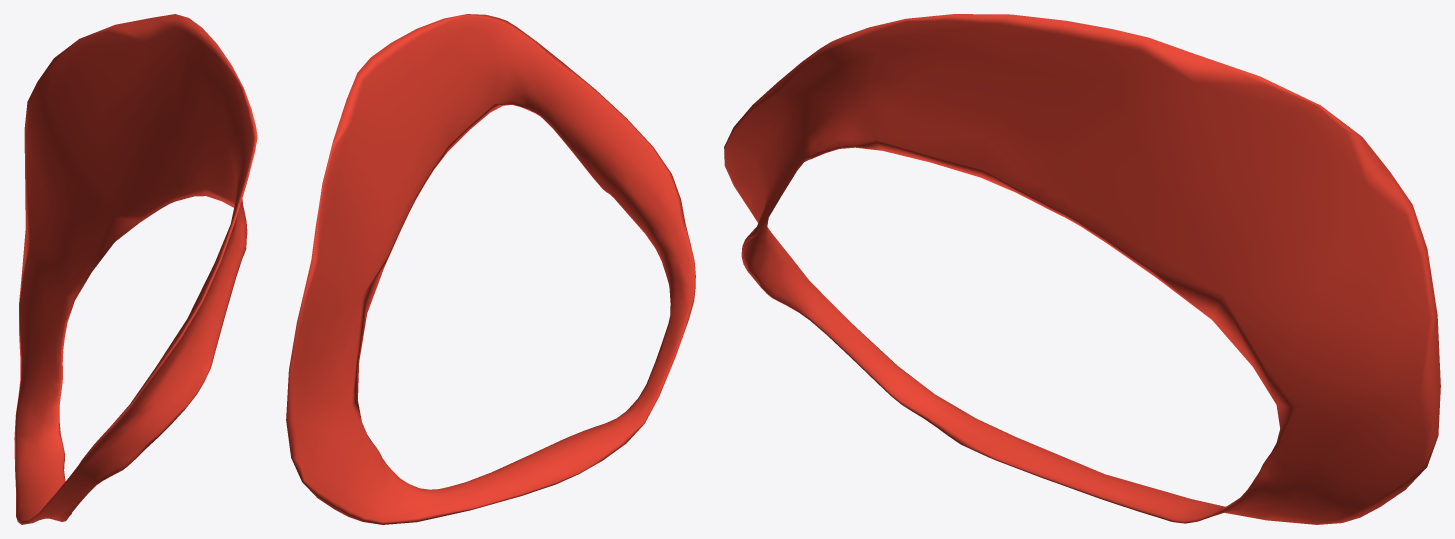
File: Obturator_internus-Pelvic_insertion.l_Generated_Mesh_From_X3D.8.glb
The picture shows the model from 3 angles, left to right: view 1: azimuth 30°, elevation 25°; view 2: azimuth 150°, elevation 25°; view 3: azimuth 270°, elevation 25°; orthographic projection. The views are drawn at different scales.
Parts seen in each view (by area): view 1: Obturator_internus-Pelvic_insertion.l_Generated_Mesh_From_X3; view 2: Obturator_internus-Pelvic_insertion.l_Generated_Mesh_From_X3; view 3: Obturator_internus-Pelvic_insertion.l_Generated_Mesh_From_X3.
Part boxes in pixels (x1=…): Obturator_internus-Pelvic_insertion.l_Generated_Mesh_From_X3: x1=14, y1=14, x2=257, y2=524; Obturator_internus-Pelvic_insertion.l_Generated_Mesh_From_X3: x1=286, y1=14, x2=695, y2=524; Obturator_internus-Pelvic_insertion.l_Generated_Mesh_From_X3: x1=724, y1=14, x2=1440, y2=524.
Bounding box in the file's own units: 0.0322 × 0.0584 × 0.0664.
